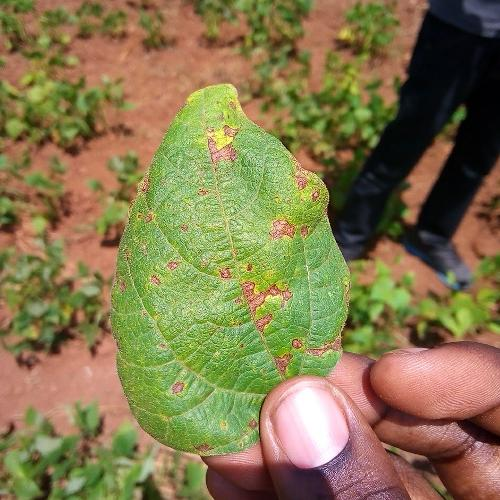hawar: (215, 261, 366, 384), (117, 164, 161, 244), (184, 412, 264, 456), (288, 158, 350, 214), (198, 120, 244, 181), (100, 247, 136, 305), (262, 212, 318, 246), (165, 376, 192, 400), (162, 256, 181, 278), (174, 222, 194, 240), (146, 272, 164, 291), (200, 184, 212, 200)
mozaik: (119, 300, 208, 366), (188, 92, 234, 117)
